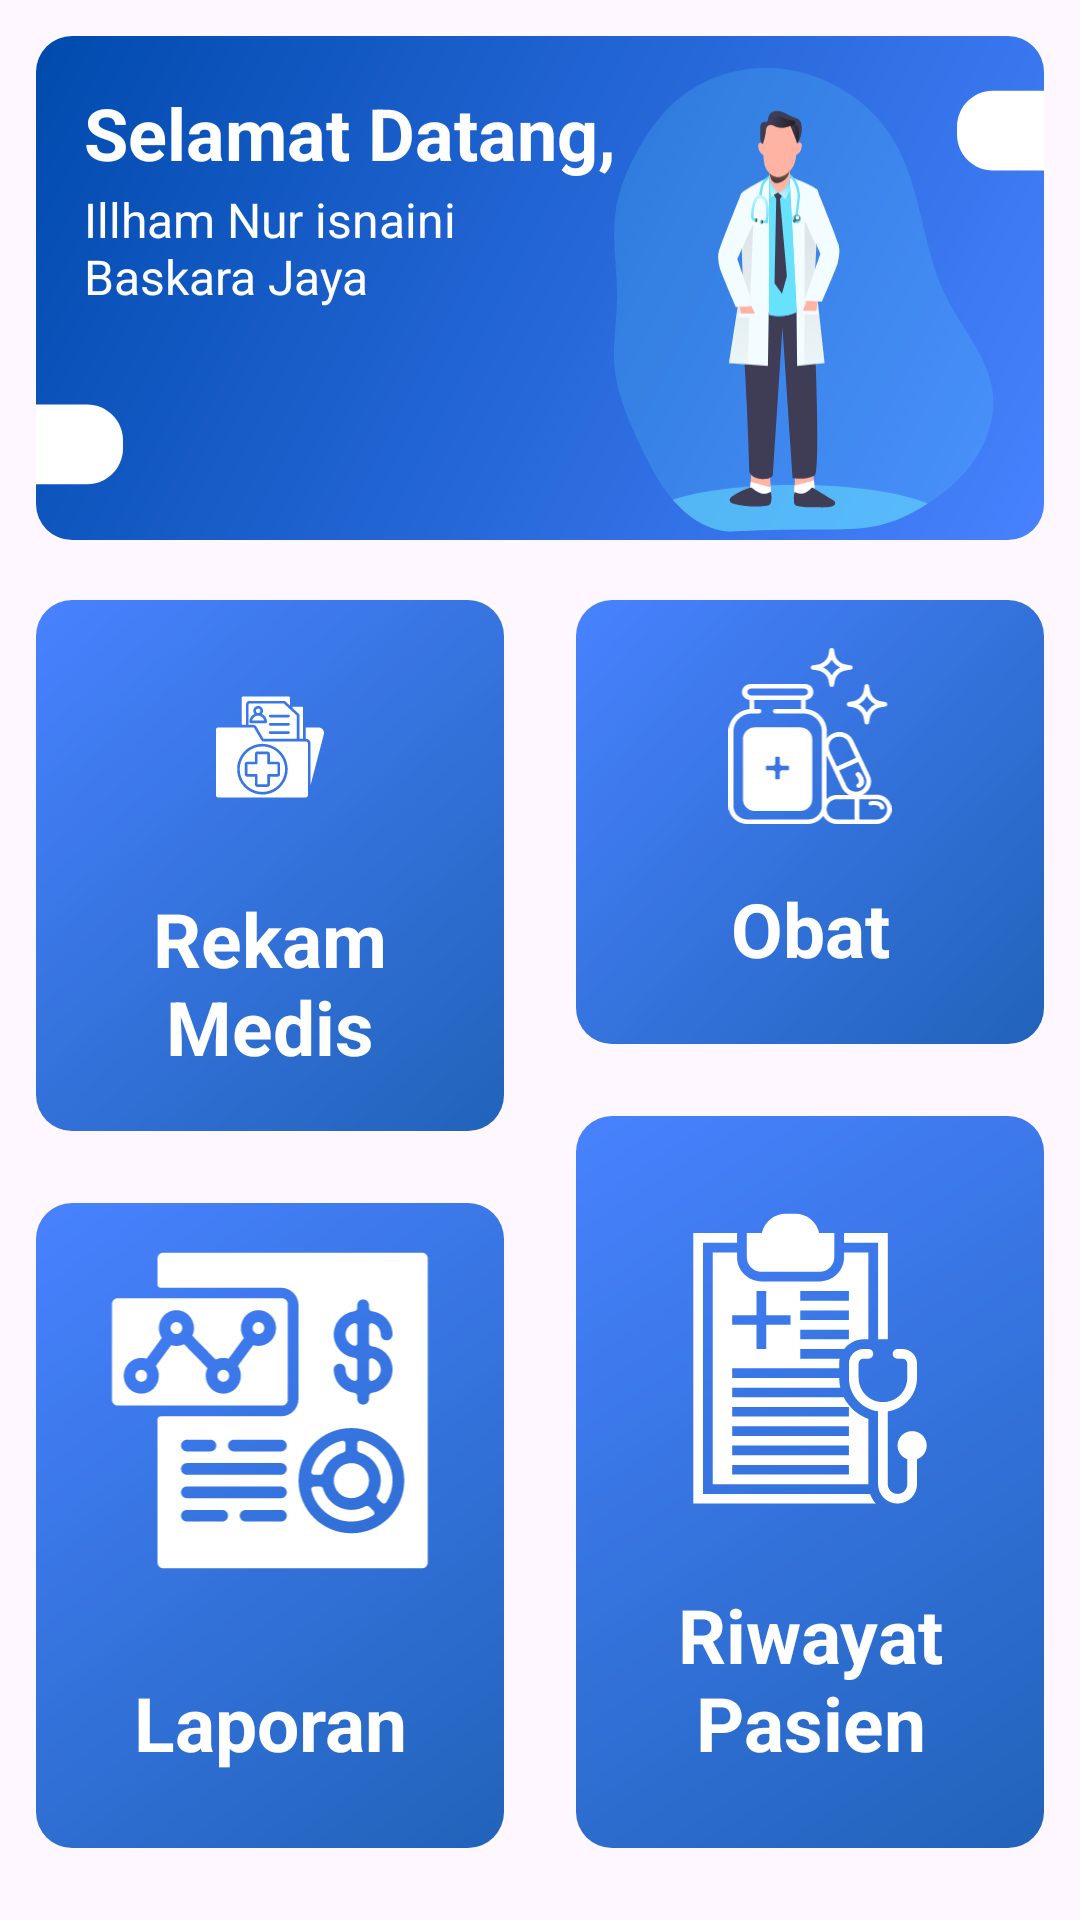

Icons on this 1080×1920 Android screen, each with the point to tap as (x=x, y=y):
rekmed: (x=270, y=747)
